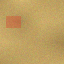vehicle: (5, 16, 20, 28)
